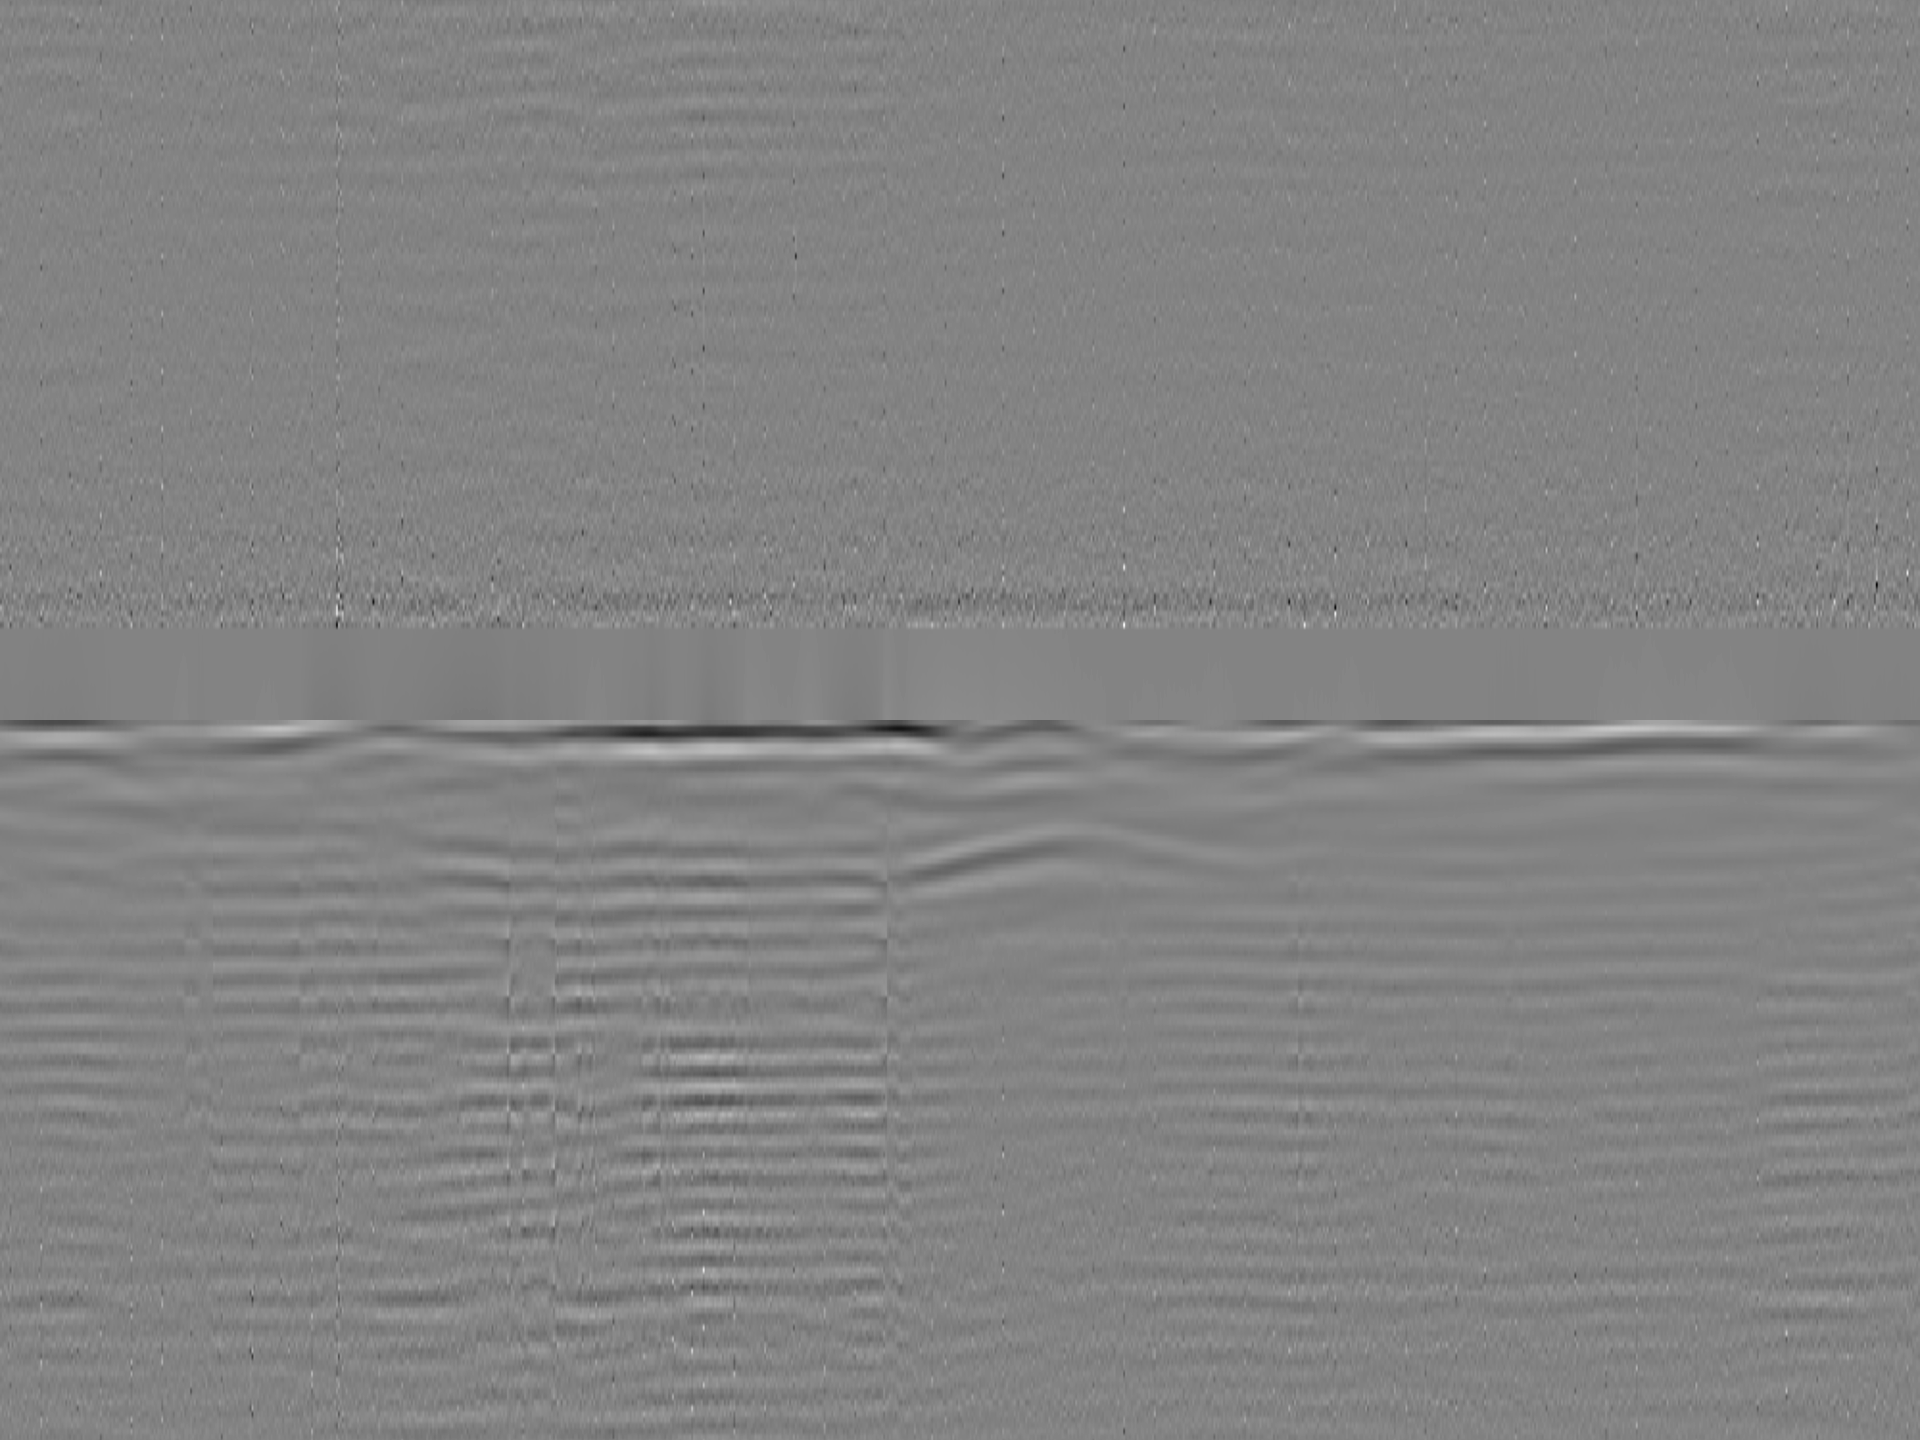Tunnel: (884, 818, 1300, 898)
